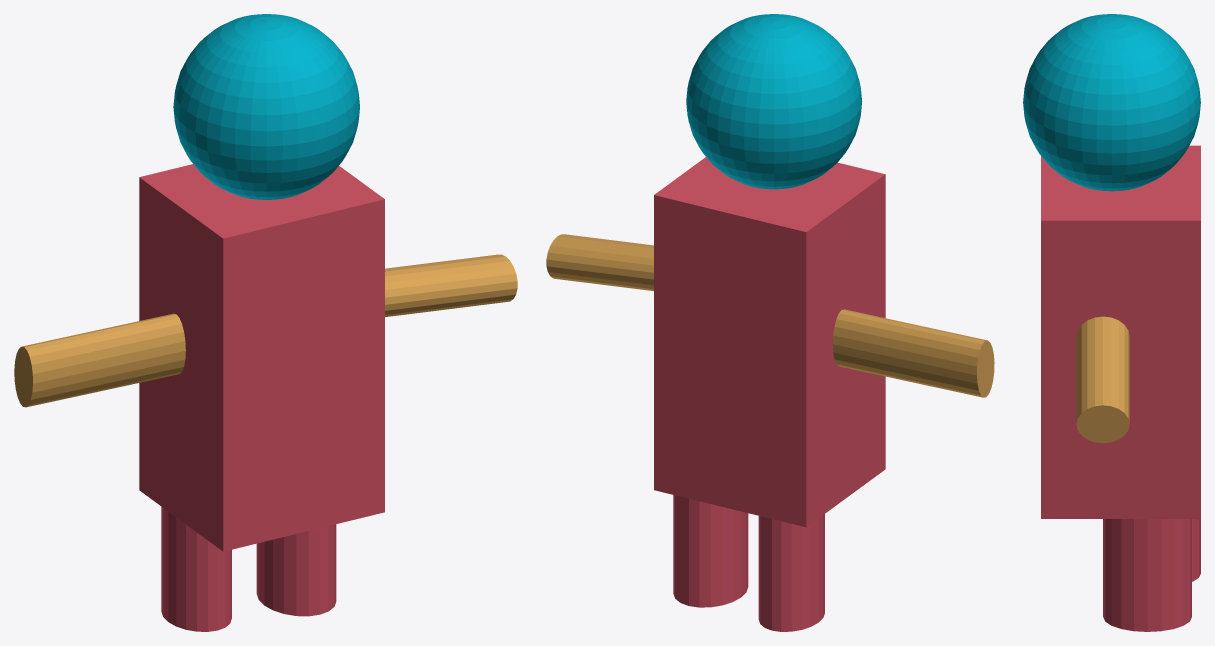
The model's file is scuba_driver.glb.
3 renders of one model, left to right at view 1: azimuth 30°, elevation 25°; view 2: azimuth 150°, elevation 25°; view 3: azimuth 270°, elevation 25°, orthographic. The views are drawn at different scales.
Visible parts, largest first — view 1: Mesh_Mesh_head_geo.001_lambert2SG.001; view 2: Mesh_Mesh_head_geo.001_lambert2SG.001; view 3: Mesh_Mesh_head_geo.001_lambert2SG.001.
Boxes of the visible parts, bbox=[...] form: Mesh_Mesh_head_geo.001_lambert2SG.001: bbox=[14, 14, 517, 631]; Mesh_Mesh_head_geo.001_lambert2SG.001: bbox=[546, 14, 994, 631]; Mesh_Mesh_head_geo.001_lambert2SG.001: bbox=[1023, 14, 1200, 631].
Size of the model in its own units: 58 by 71 by 20.
